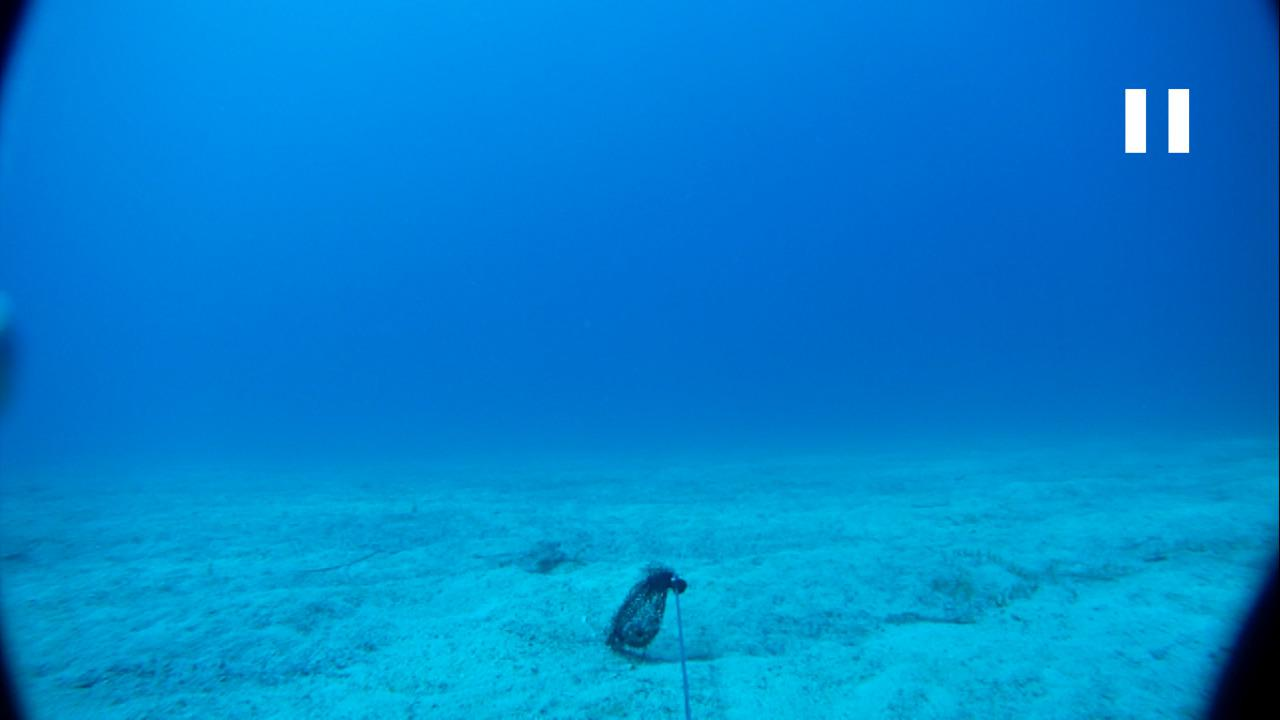dactylopterus: (481, 531, 586, 580)
